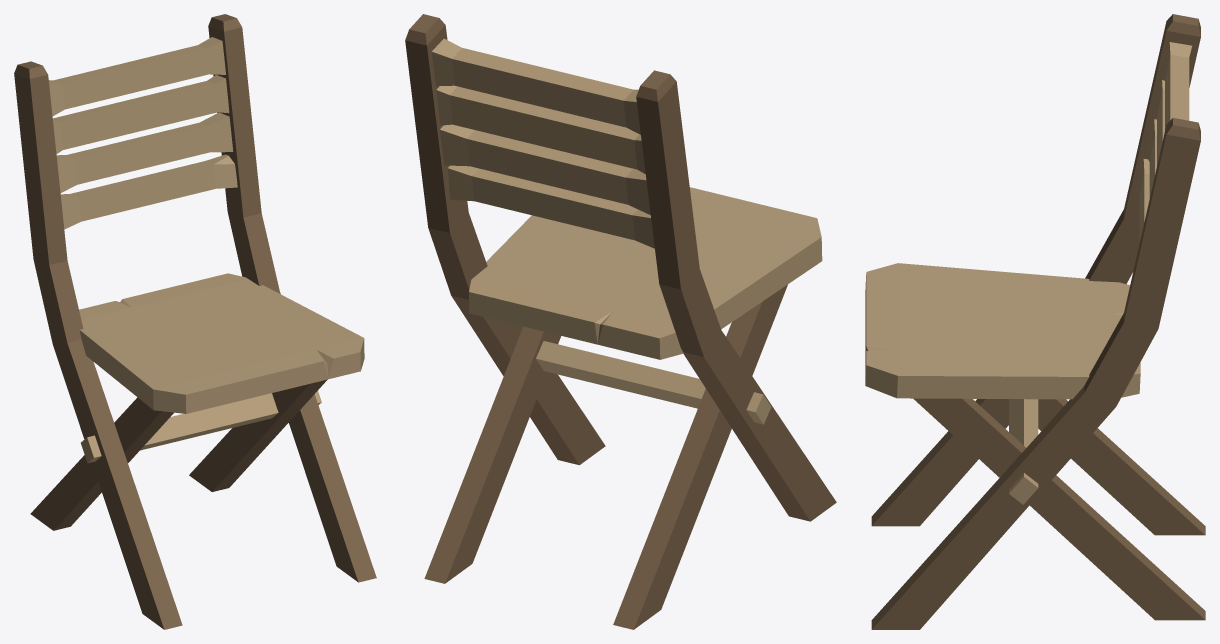
File: SM_Prop_Chair_03.fbx
The picture shows the model from 3 angles, left to right: view 1: azimuth 30°, elevation 25°; view 2: azimuth 150°, elevation 25°; view 3: azimuth 270°, elevation 25°; orthographic projection. The views are drawn at different scales.
Parts seen in each view (by area): view 1: SM_Prop_Chair_03; view 2: SM_Prop_Chair_03; view 3: SM_Prop_Chair_03.
Part boxes in pixels (x1,y1,x2,y2): SM_Prop_Chair_03: [14, 14, 376, 629]; SM_Prop_Chair_03: [405, 14, 836, 629]; SM_Prop_Chair_03: [865, 14, 1205, 629].
Size of the model in its own units: 50.28 by 96.94 by 59.35.
